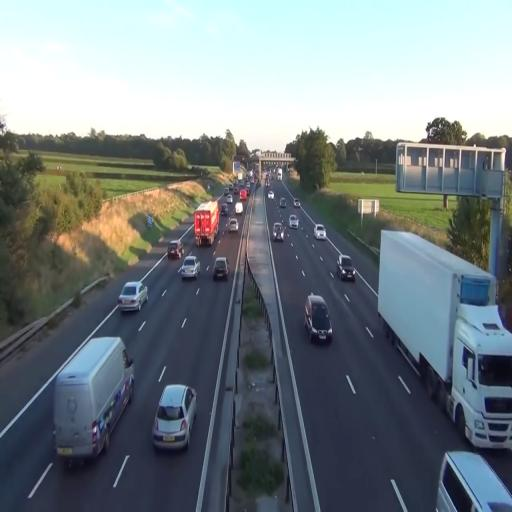vehicle: (377, 228, 512, 447), (52, 333, 136, 468), (52, 334, 136, 467), (435, 448, 512, 512), (151, 383, 197, 451), (304, 293, 333, 345), (193, 201, 220, 247), (118, 278, 147, 314), (337, 254, 356, 281), (179, 257, 200, 281), (213, 256, 229, 282), (168, 240, 184, 261), (272, 221, 286, 241), (314, 222, 326, 240), (226, 218, 238, 234)
